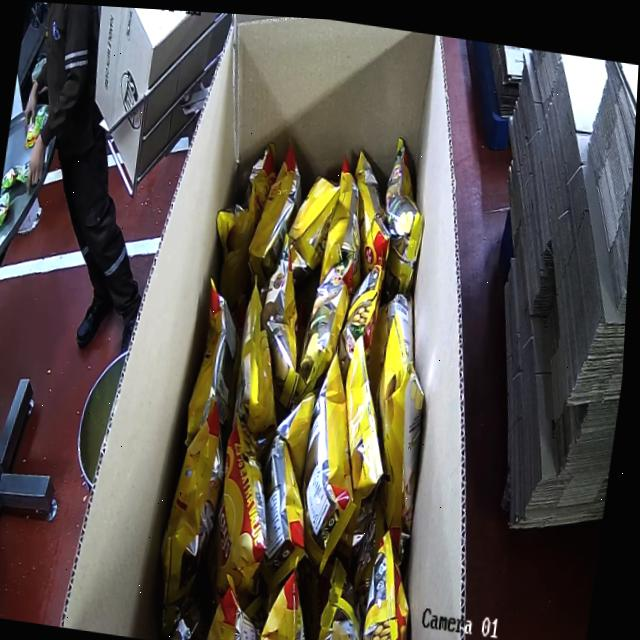SALTED: (136, 100, 488, 640)
